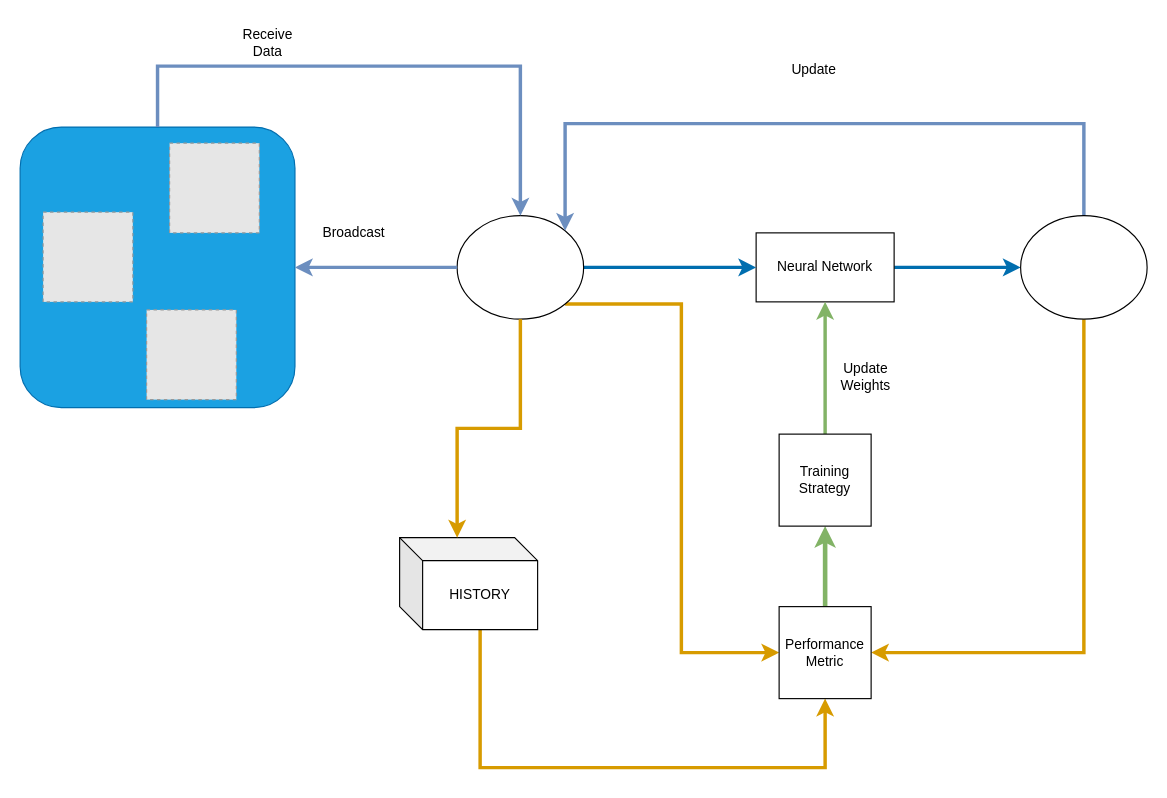
Image size: 1167x798. Some labels were removed from this diagram. Grey dashed boxes stand in for pictures. Here are the shapes that lost their labels. From the top down, the centre of each, then its label:
At [520,266]: "State".
At [1083,266]: "Commands".
